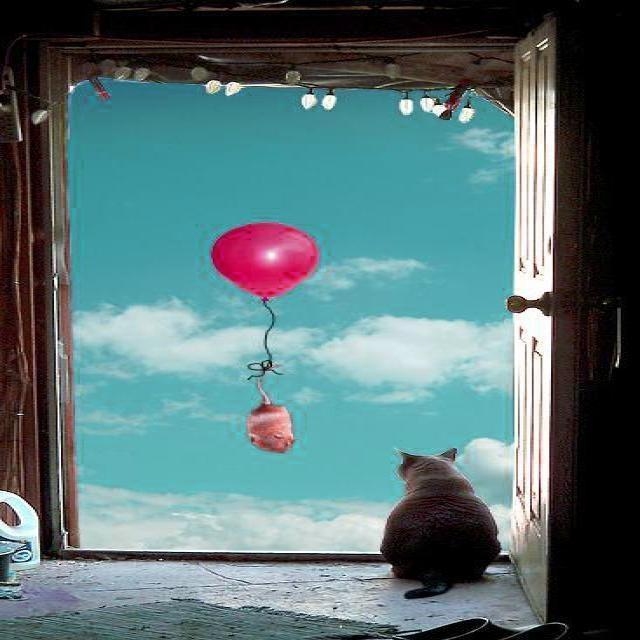door: (504, 21, 592, 622)
